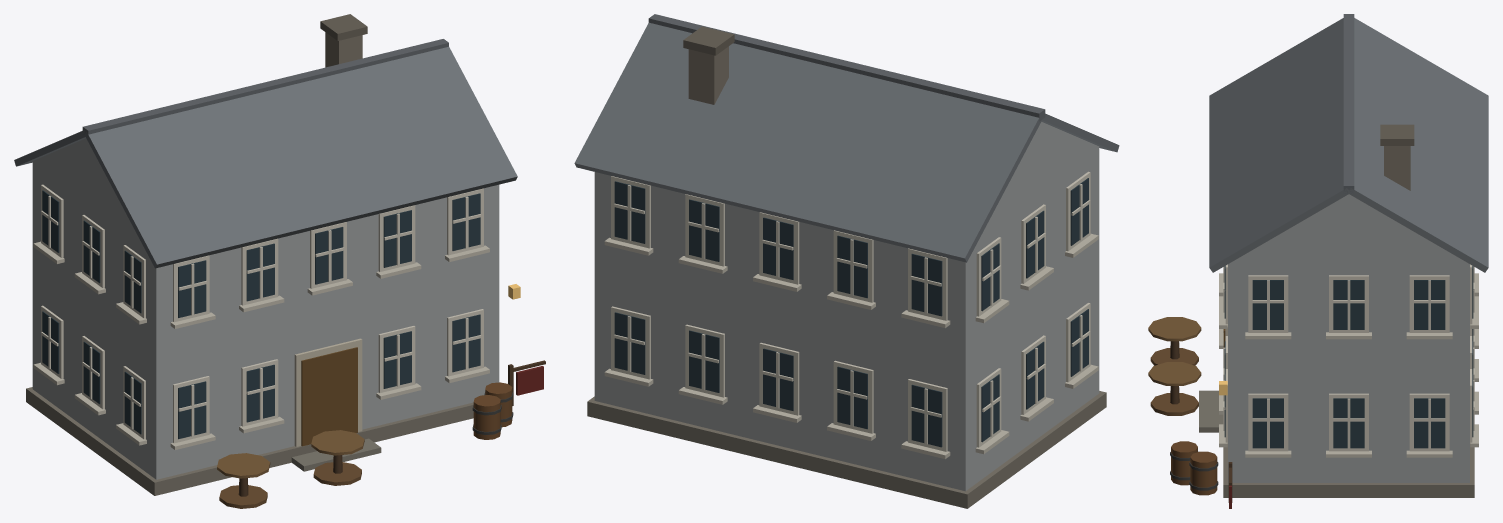
File: procedural_inn@6.glb
The picture shows the model from 3 angles, left to right: view 1: azimuth 30°, elevation 25°; view 2: azimuth 150°, elevation 25°; view 3: azimuth 270°, elevation 25°; orthographic projection. The views are drawn at different scales.
Parts seen in each view (by area): view 1: part_0; view 2: part_0; view 3: part_0.
Part boxes in pixels (x1,y1,x2,y2): part_0: (14, 14, 545, 508); part_0: (574, 14, 1119, 508); part_0: (1148, 14, 1488, 508).
Size of the model in its own units: 9.31 by 7.56 by 7.04.
